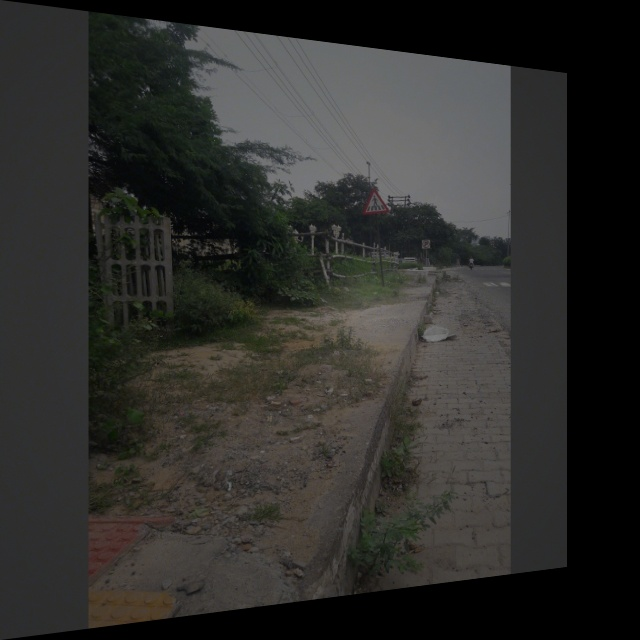Pedestrian_Crossing: (361, 179, 395, 219)
